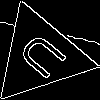U: (15, 30, 76, 88)
